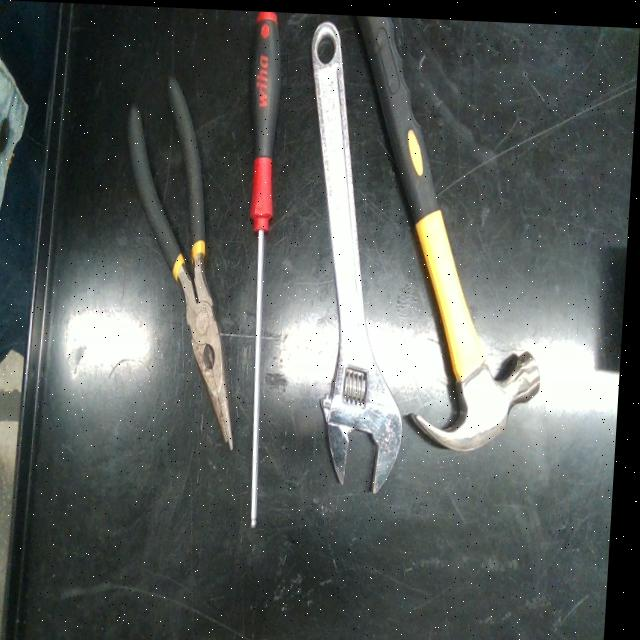Screwdriver: (252, 9, 281, 524)
